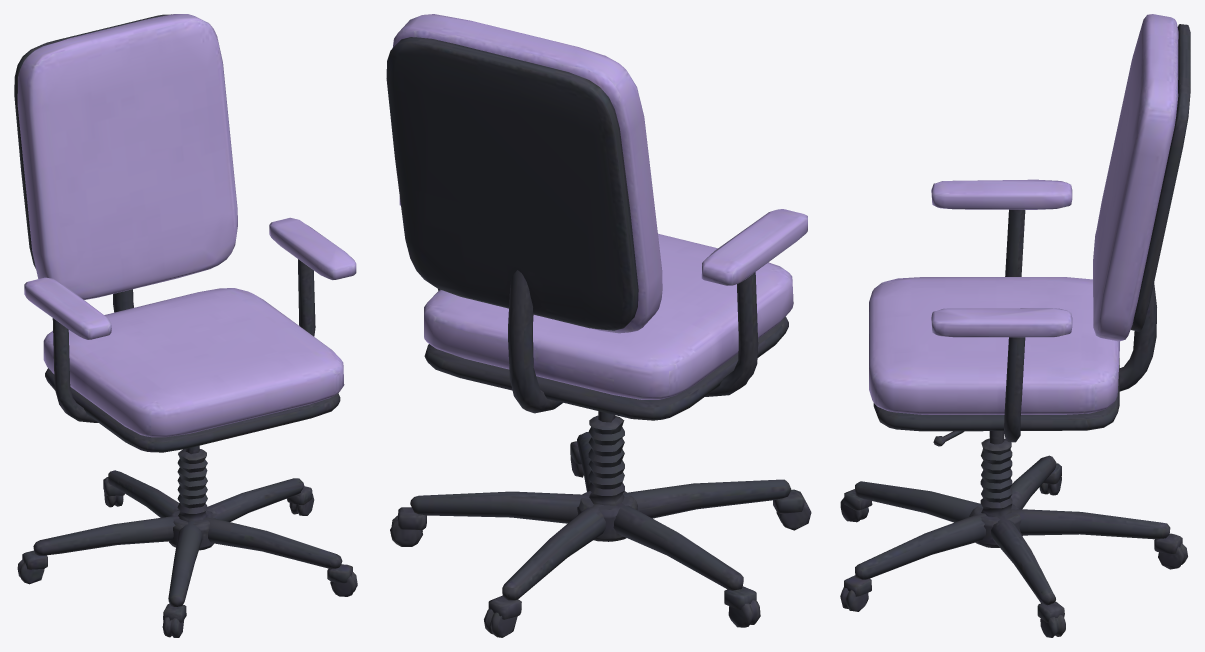
File: office-chair.glb
3 views of the same model, side by side, from view 1: azimuth 30°, elevation 25°; view 2: azimuth 150°, elevation 25°; view 3: azimuth 270°, elevation 25° (orthographic). The views are drawn at different scales.
Visible parts, largest first — view 1: office-chair_body; view 2: office-chair_body; view 3: office-chair_body.
Part boxes in pixels (<box>): office-chair_body: <box>14,14,357,637</box>; office-chair_body: <box>386,14,811,637</box>; office-chair_body: <box>840,14,1190,637</box>.
Bounding box in the file's own units: 0.6938 × 1.08 × 0.6667.
1 material, 1 textured.
